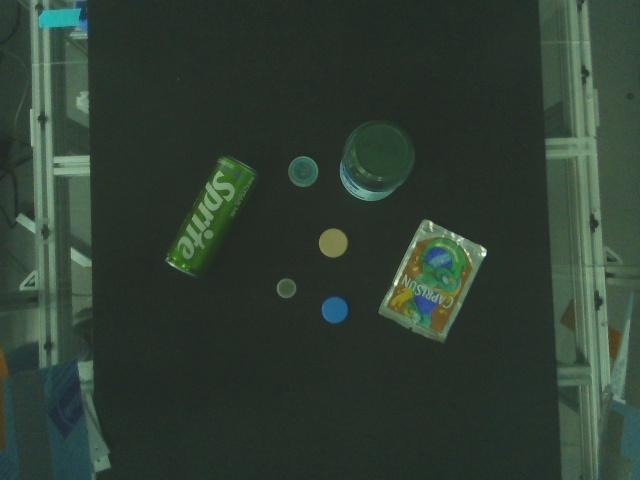glass: (336, 115, 418, 205)
metal: (159, 150, 262, 282)
plastic: (375, 215, 493, 346), (285, 153, 321, 190), (315, 225, 352, 261), (319, 292, 351, 328), (275, 275, 299, 300)
